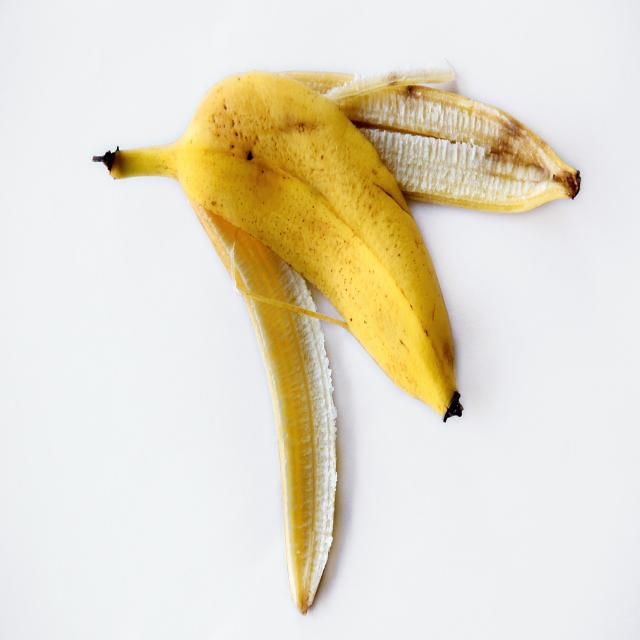platano: (186, 71, 486, 448)
